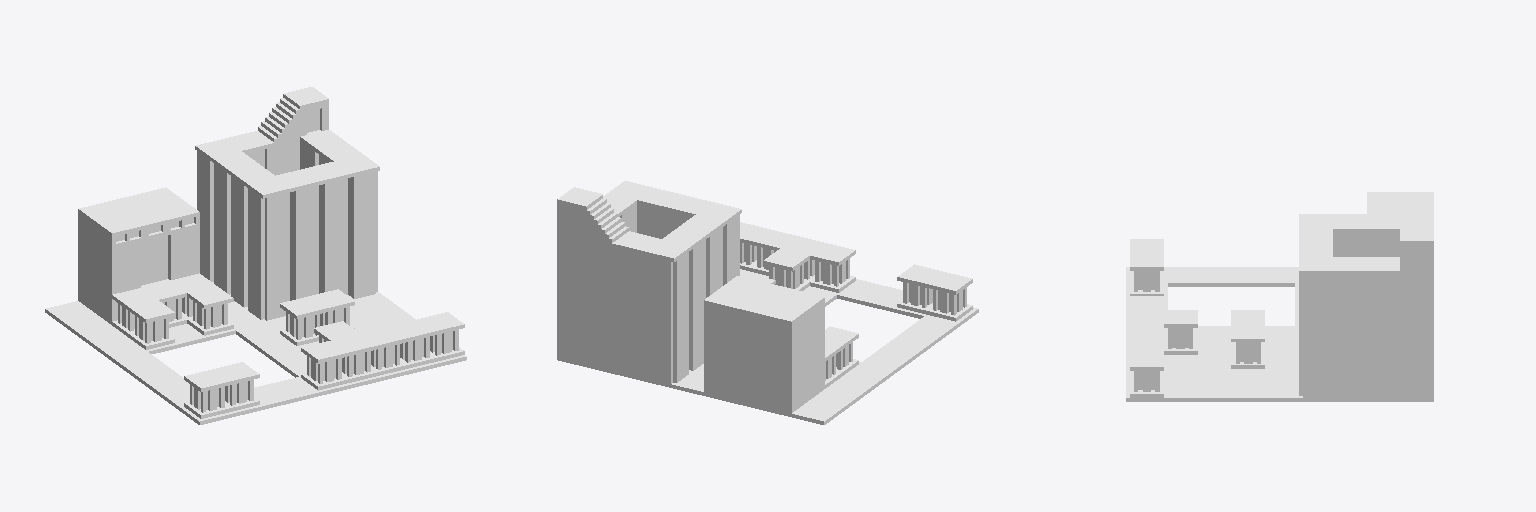
The model's file is Stage2.obj.
3 views of the same model, side by side, from view 1: azimuth 30°, elevation 25°; view 2: azimuth 150°, elevation 25°; view 3: azimuth 270°, elevation 25° (orthographic).
Visible parts, largest first — view 1: object 1; view 2: object 1; view 3: object 1.
Part boxes in pixels (bbox=[...]): object 1: bbox=[45, 87, 466, 424]; object 1: bbox=[557, 181, 978, 424]; object 1: bbox=[1126, 192, 1433, 401].
Size of the model in its own units: 7.3 by 4.2 by 7.3.